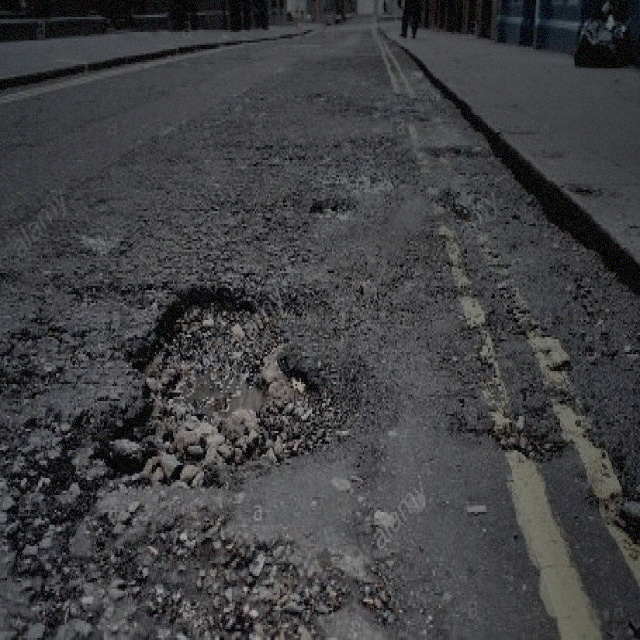pothole: (90, 275, 354, 491), (308, 196, 353, 218)
